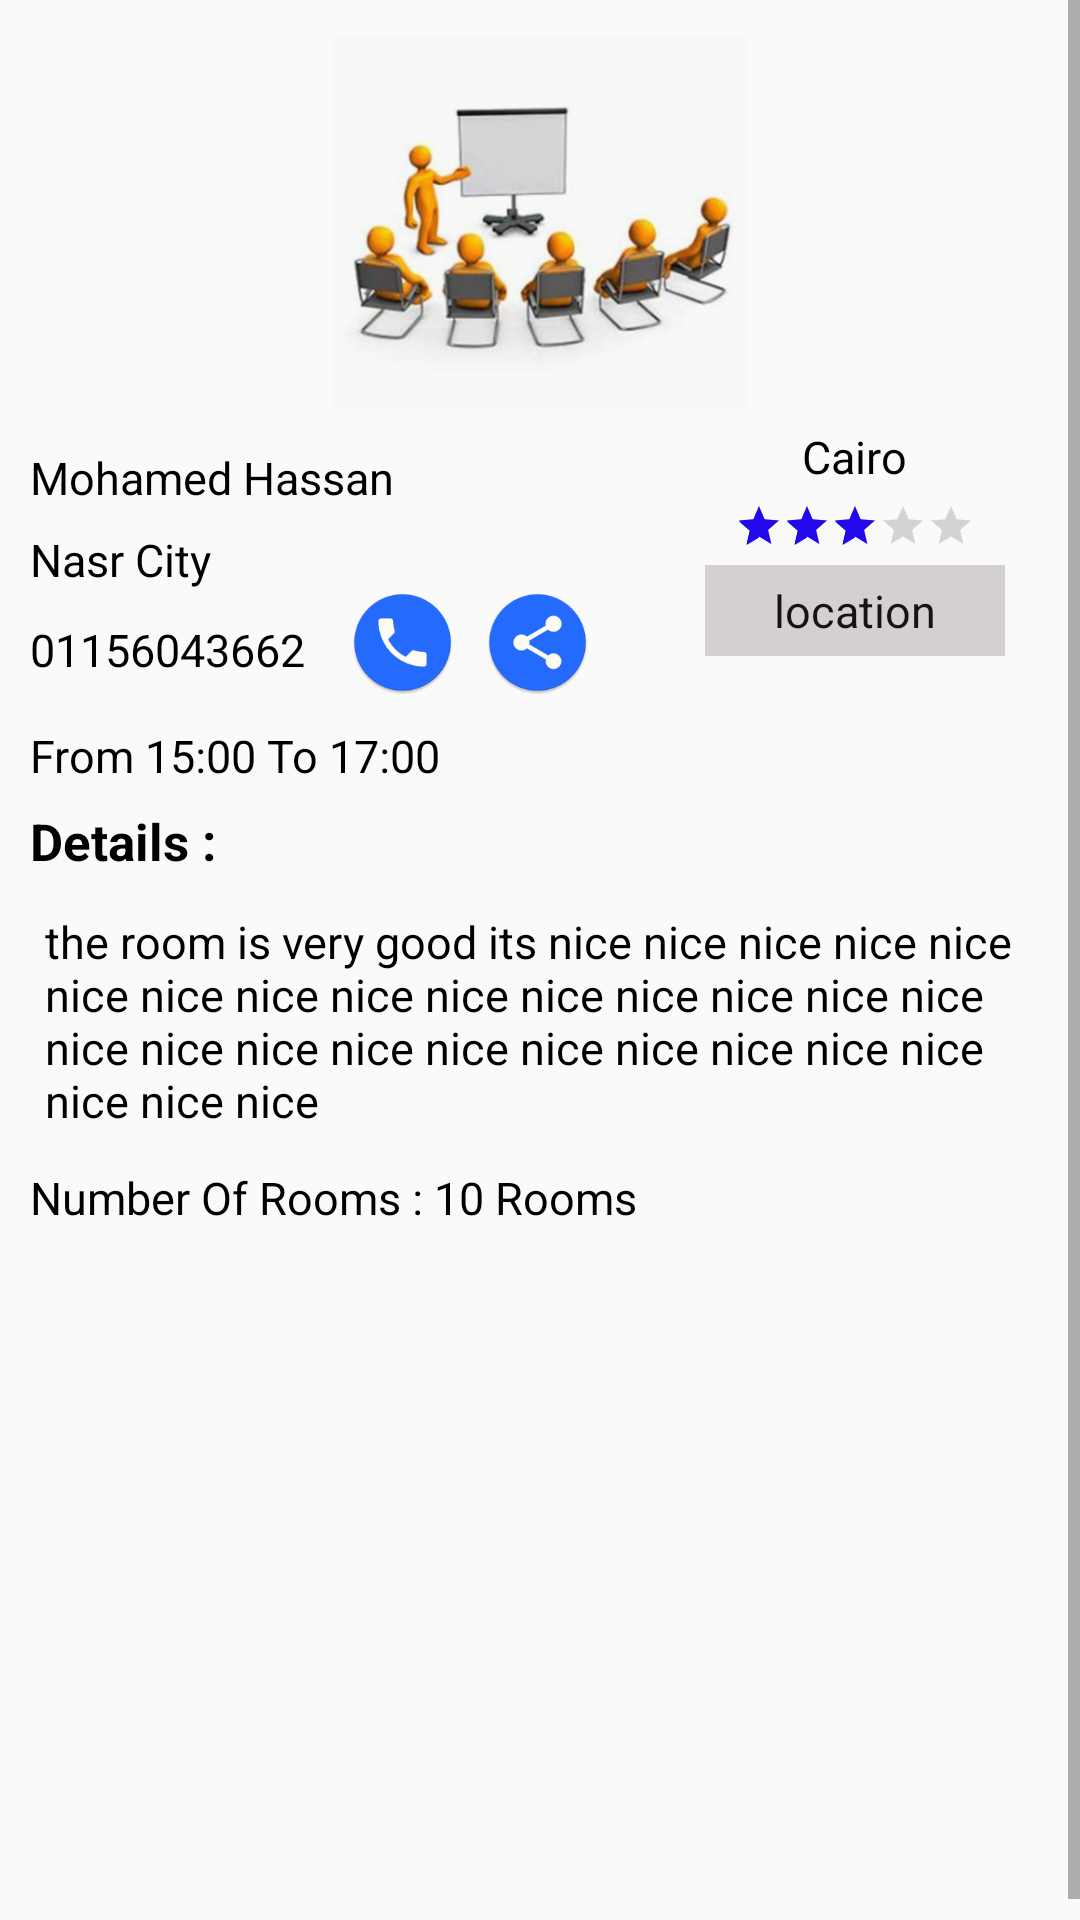

Screen size 1080*1920. Icon name, then its center in pixels as [x,y]:
phone: [402,643]
share: [537,643]
